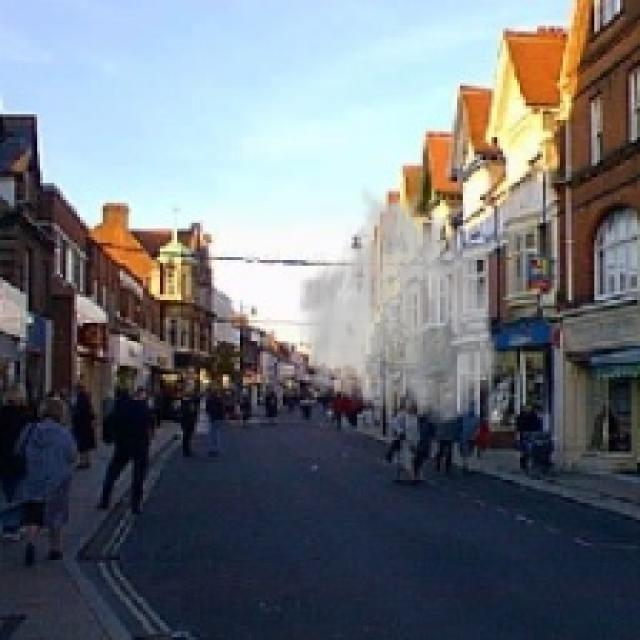Smoke: (294, 182, 500, 428)
